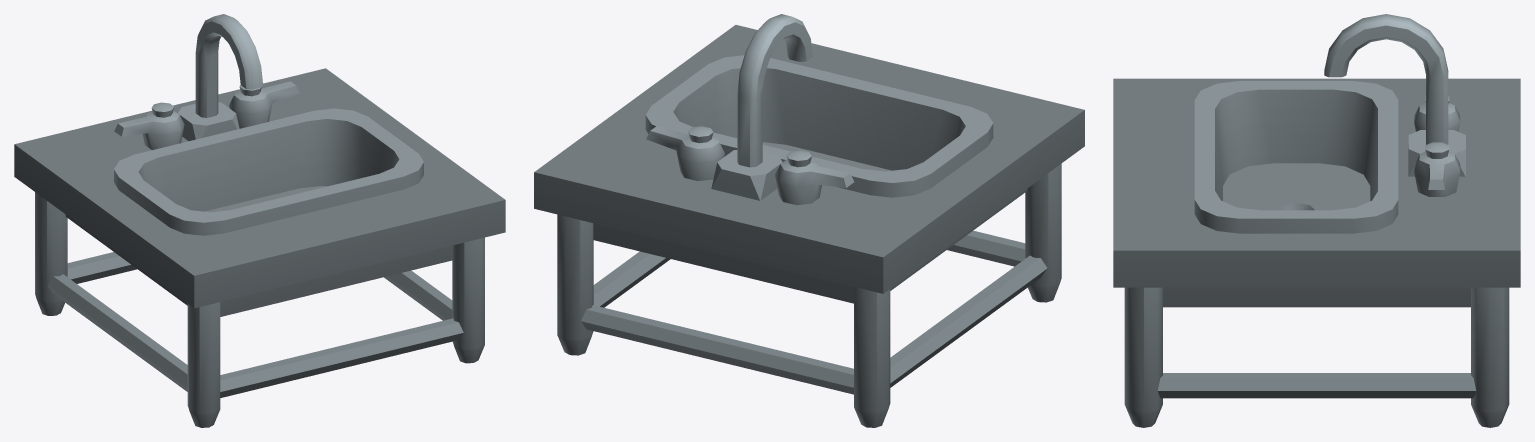
Rendered from kay-kitchentable_sink.glb.
The picture shows the model from 3 angles, left to right: view 1: azimuth 30°, elevation 25°; view 2: azimuth 150°, elevation 25°; view 3: azimuth 270°, elevation 25°; orthographic projection. The views are drawn at different scales.
Parts seen in each view (by area): view 1: kitchentable_sink; view 2: kitchentable_sink; view 3: kitchentable_sink.
Boxes of the visible parts, x1=… form: kitchentable_sink: x1=14, y1=14, x2=505, y2=427; kitchentable_sink: x1=534, y1=14, x2=1084, y2=427; kitchentable_sink: x1=1113, y1=14, x2=1520, y2=427.
Bounding box in the file's own units: 1.8 × 1.62 × 1.8.
1 material, 1 textured.
